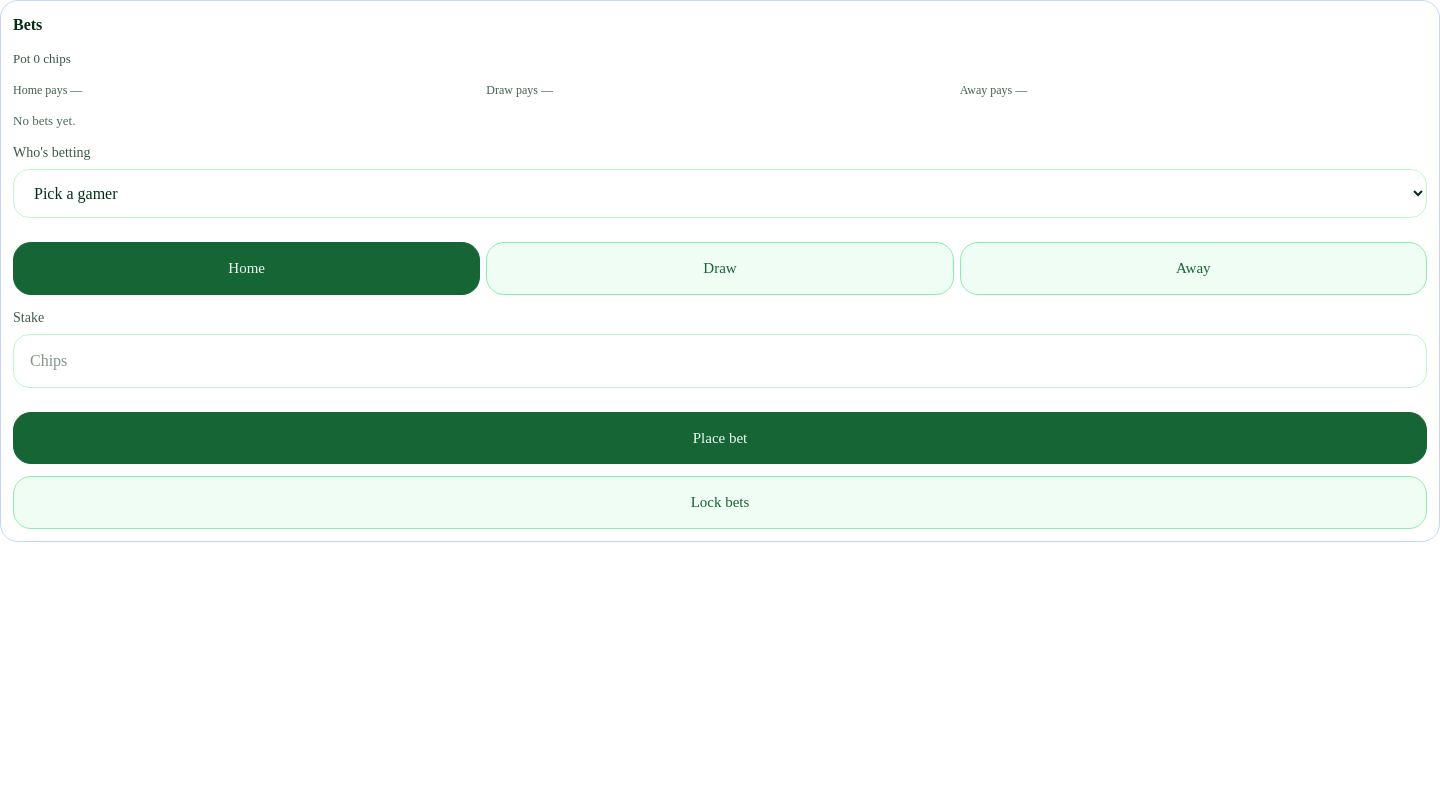
Test: BetsPanel › disables outcomes a participant may not back, with a reason
Select "Ann" in the dropdown labelled "Who's betting": (720, 194) [13,169,1427,218]
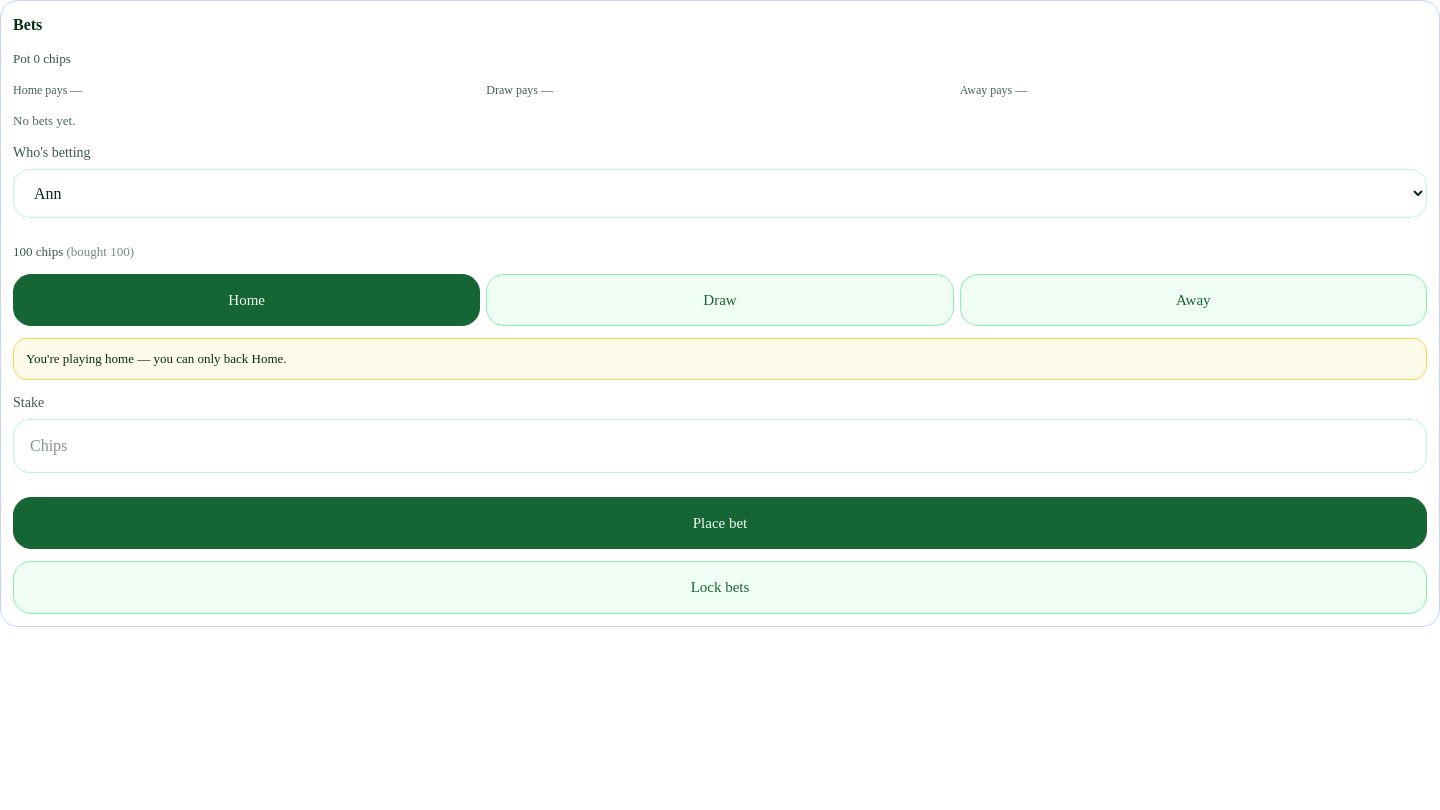
Result: the button "Draw" is disabled at [486,274,954,326]
Result: the button "Away" is disabled at [960,274,1427,326]
Result: the text "You're playing home — you can only back Home." is shown at [13,338,1427,380]
